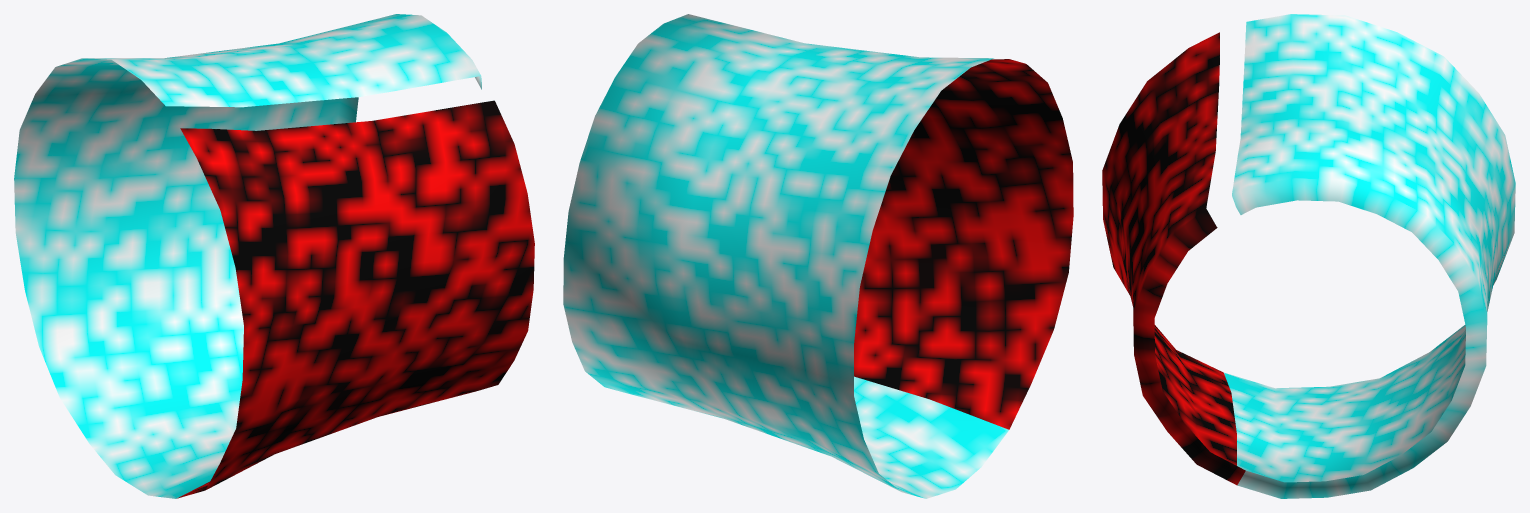
File: SM_Fulminos_Arm_01_KMH.fbx
3 views of the same model, side by side, from view 1: azimuth 30°, elevation 25°; view 2: azimuth 150°, elevation 25°; view 3: azimuth 270°, elevation 25° (orthographic). The views are drawn at different scales.
Parts seen in each view (by area): view 1: SM_Fulminos_Arm_01_KMH; view 2: SM_Fulminos_Arm_01_KMH; view 3: SM_Fulminos_Arm_01_KMH.
Boxes of the visible parts, <box> form: SM_Fulminos_Arm_01_KMH: <box>14,14,534,498</box>; SM_Fulminos_Arm_01_KMH: <box>563,14,1073,498</box>; SM_Fulminos_Arm_01_KMH: <box>1102,14,1515,498</box>.
Size of the model in its own units: 5.28 by 6.45 by 6.45.
